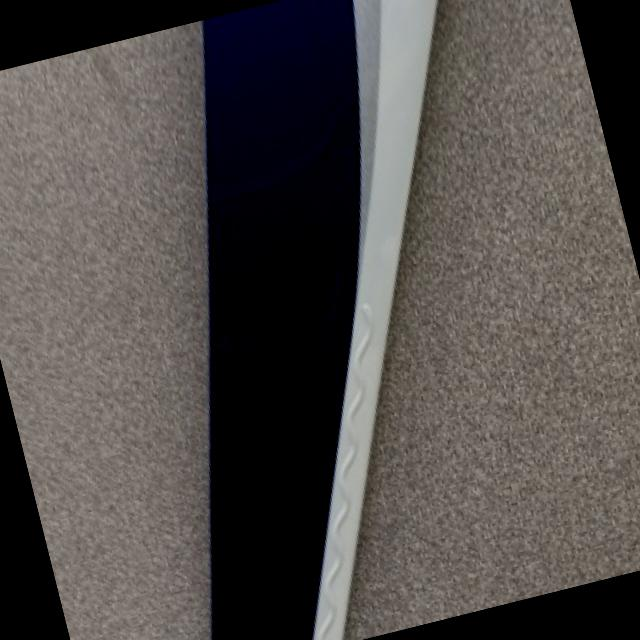healthy: (205, 0, 437, 640)
